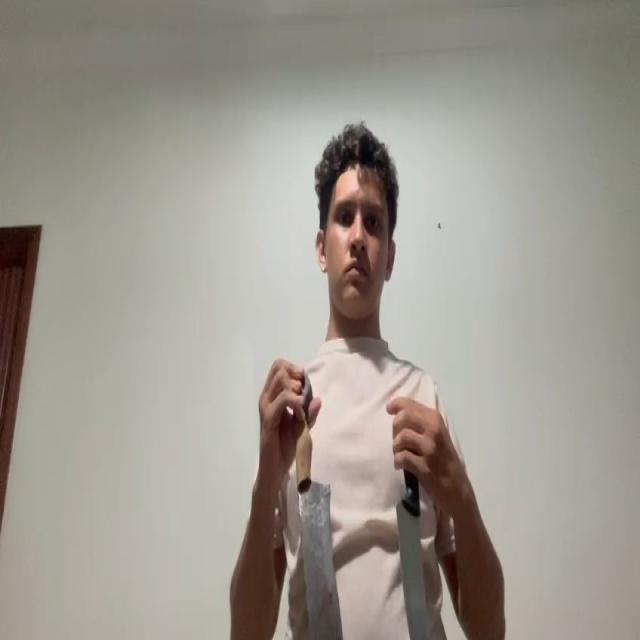knife: (297, 482, 343, 640), (395, 500, 427, 640)
